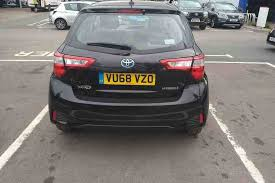licence-plate: (98, 71, 157, 85)
